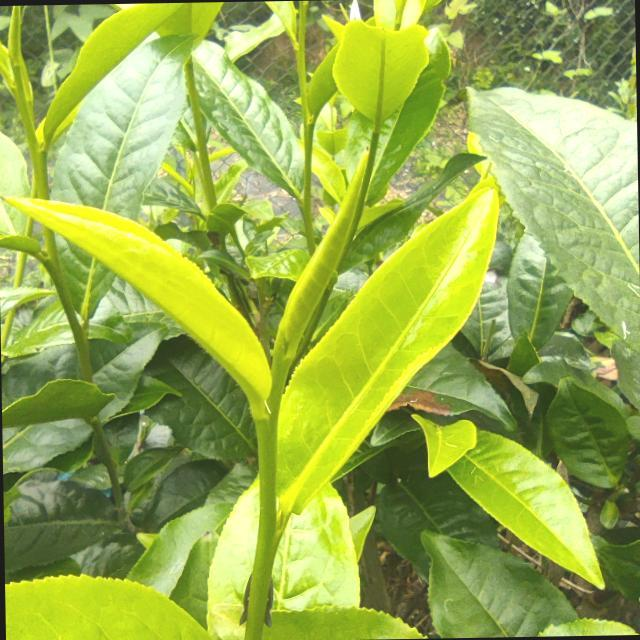Stem: (255, 418, 278, 441), (29, 146, 48, 171)
